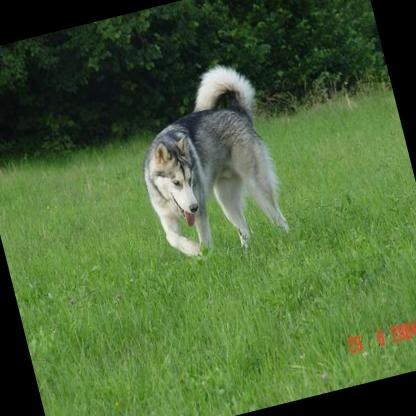malamute: (122, 58, 290, 266)
